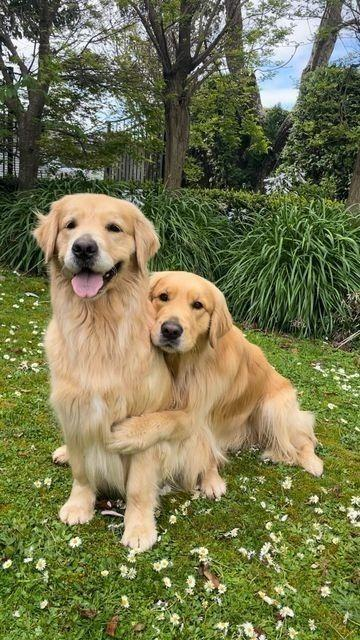adult_dog: (32, 193, 193, 552), (103, 270, 325, 501)
